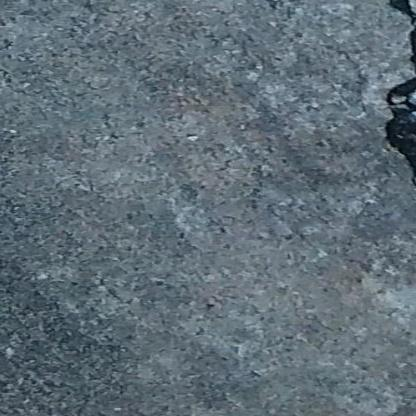Cracks: (374, 0, 416, 228)
